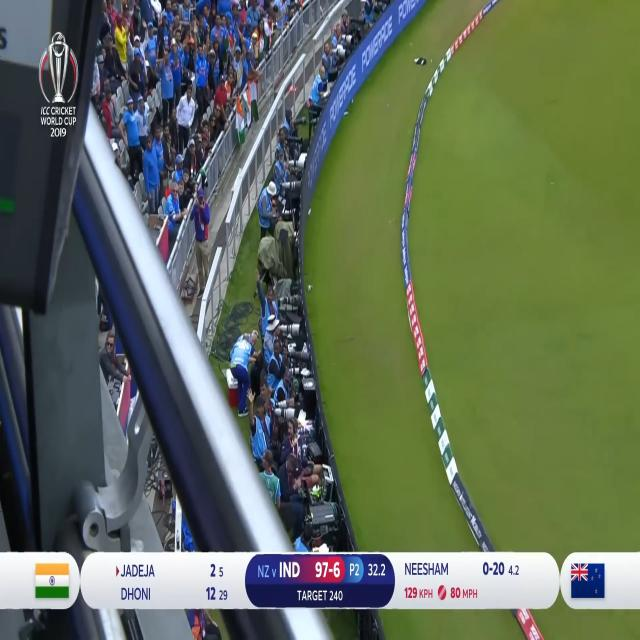ball: (304, 278, 315, 296)
